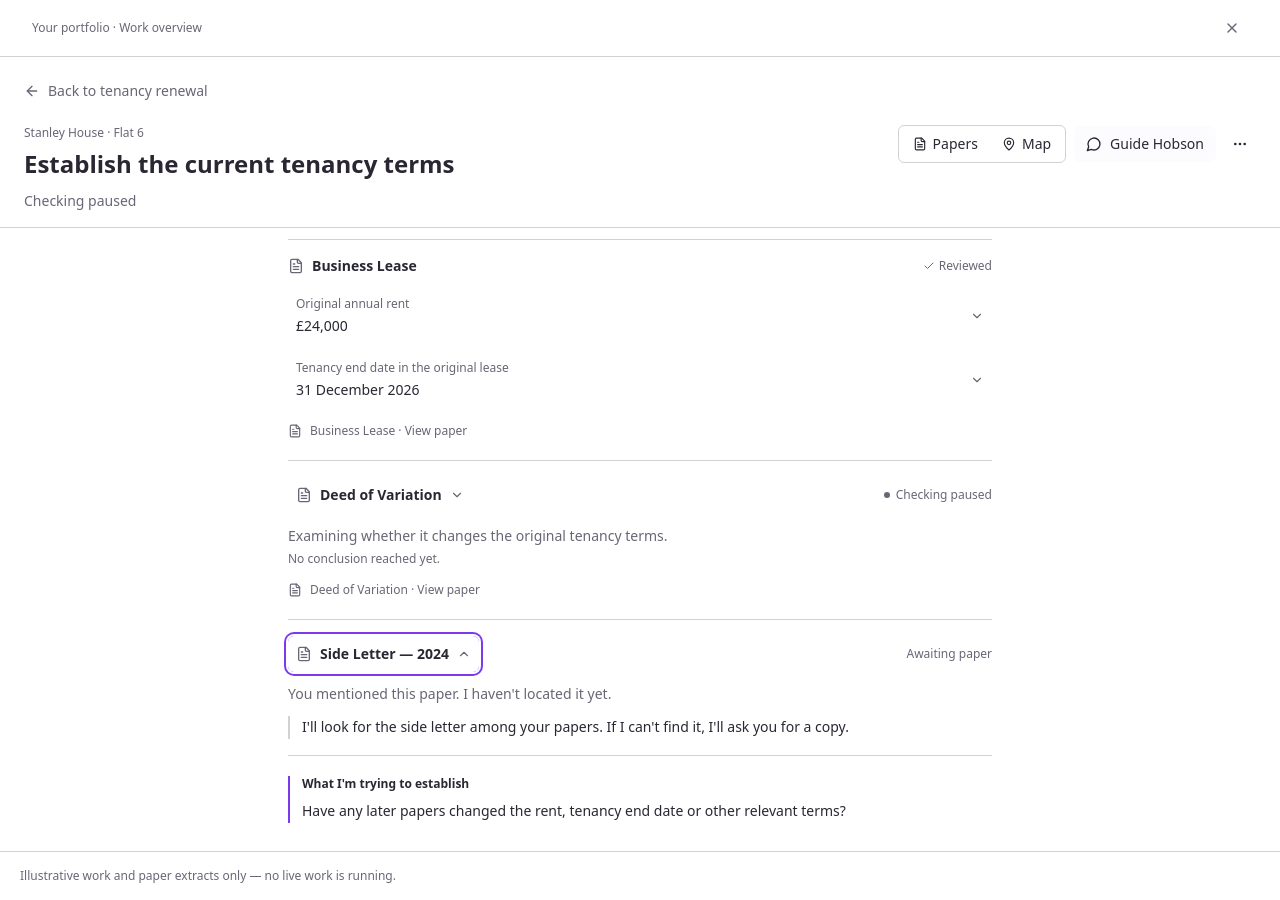
Test: Illustrative work journey › preserves the selected evidence and pause state when guidance adds a paper
The image size is (1280, 900).
Earlier steps of the test are not shown.
Later steps or results of the test are not shown.
(page scrolled)
Click the button "Back to tenancy renewal" at (116,91), box [24, 73, 208, 109]
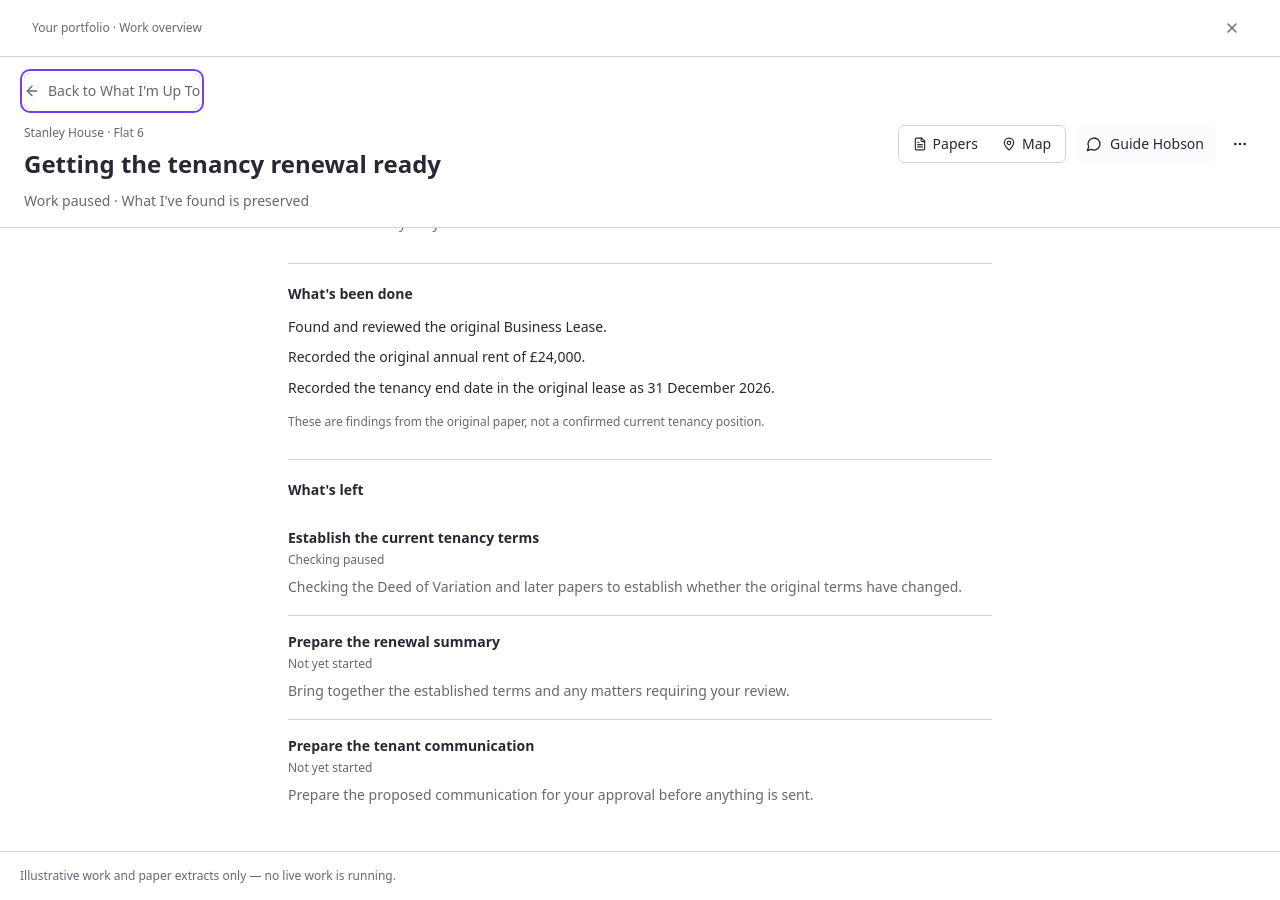
Click the button "Back to What I'm Up To" at (112,91), box [24, 73, 200, 109]
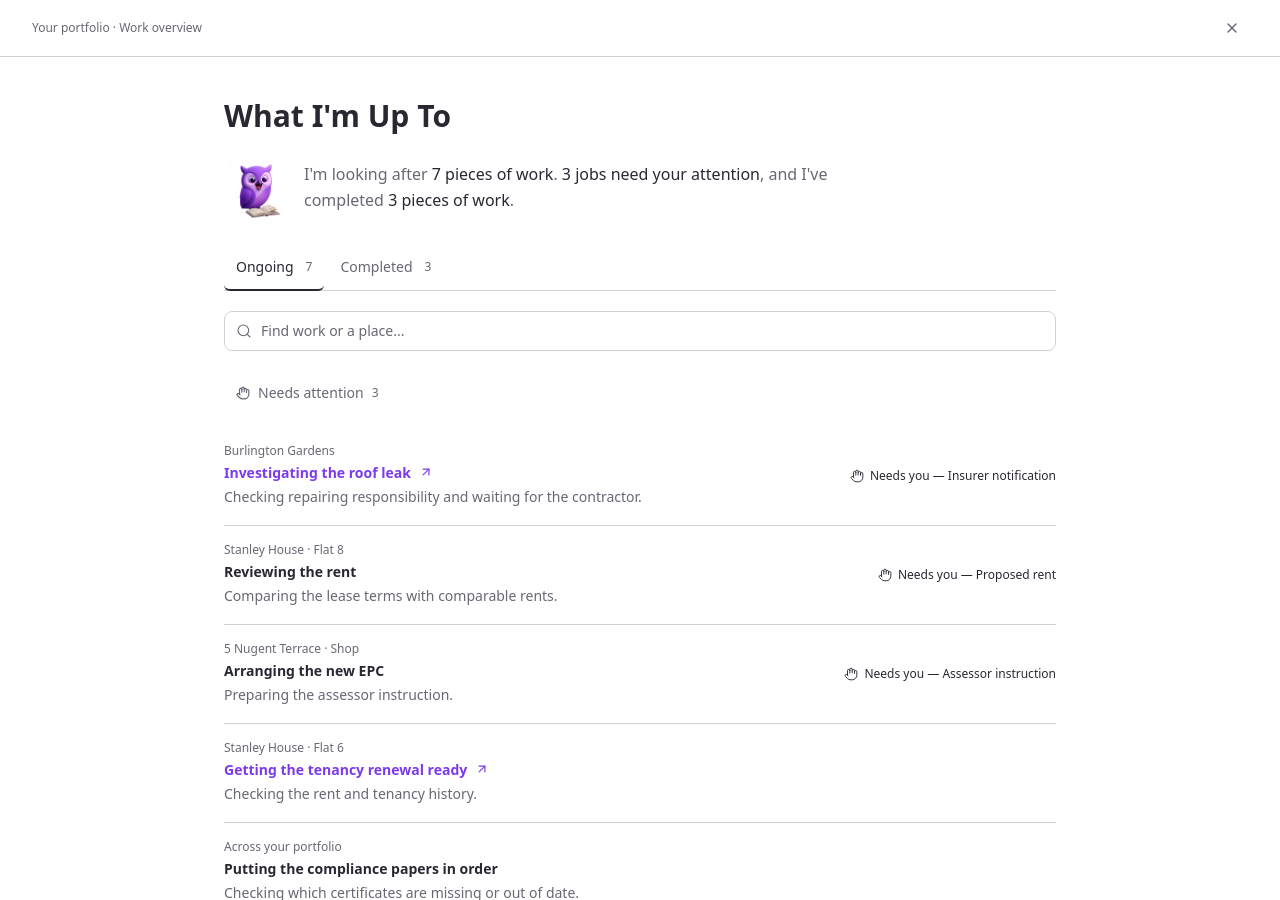
Click the button "Getting the tenancy renewal ready" at (357,769), box [224, 760, 489, 779]
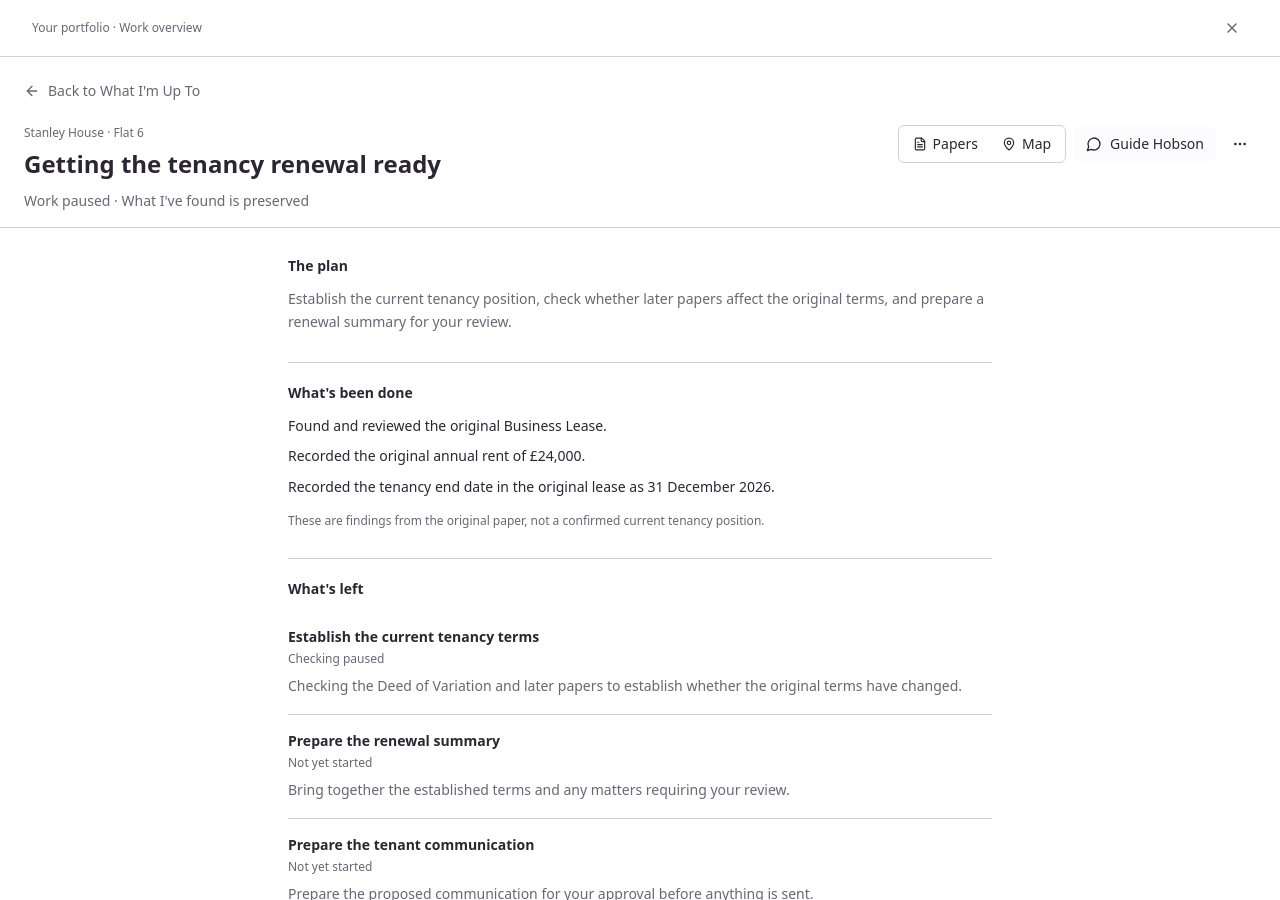
Click the button "Establish the current tenancy terms" at (414,637), box [288, 611, 992, 714]
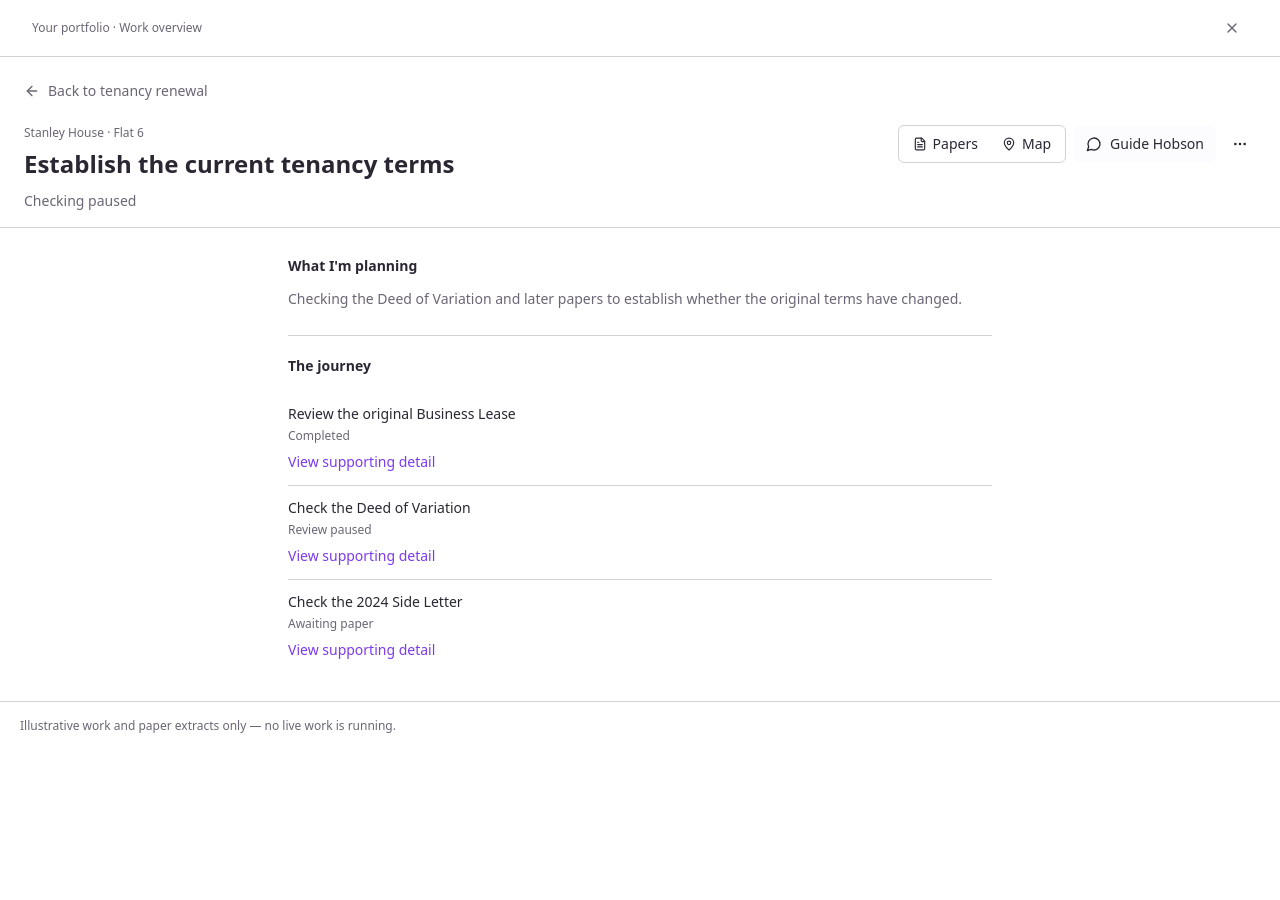
Click the button "View supporting detail" below "Check the Deed of Variation" at (362,556), box [288, 546, 435, 566]
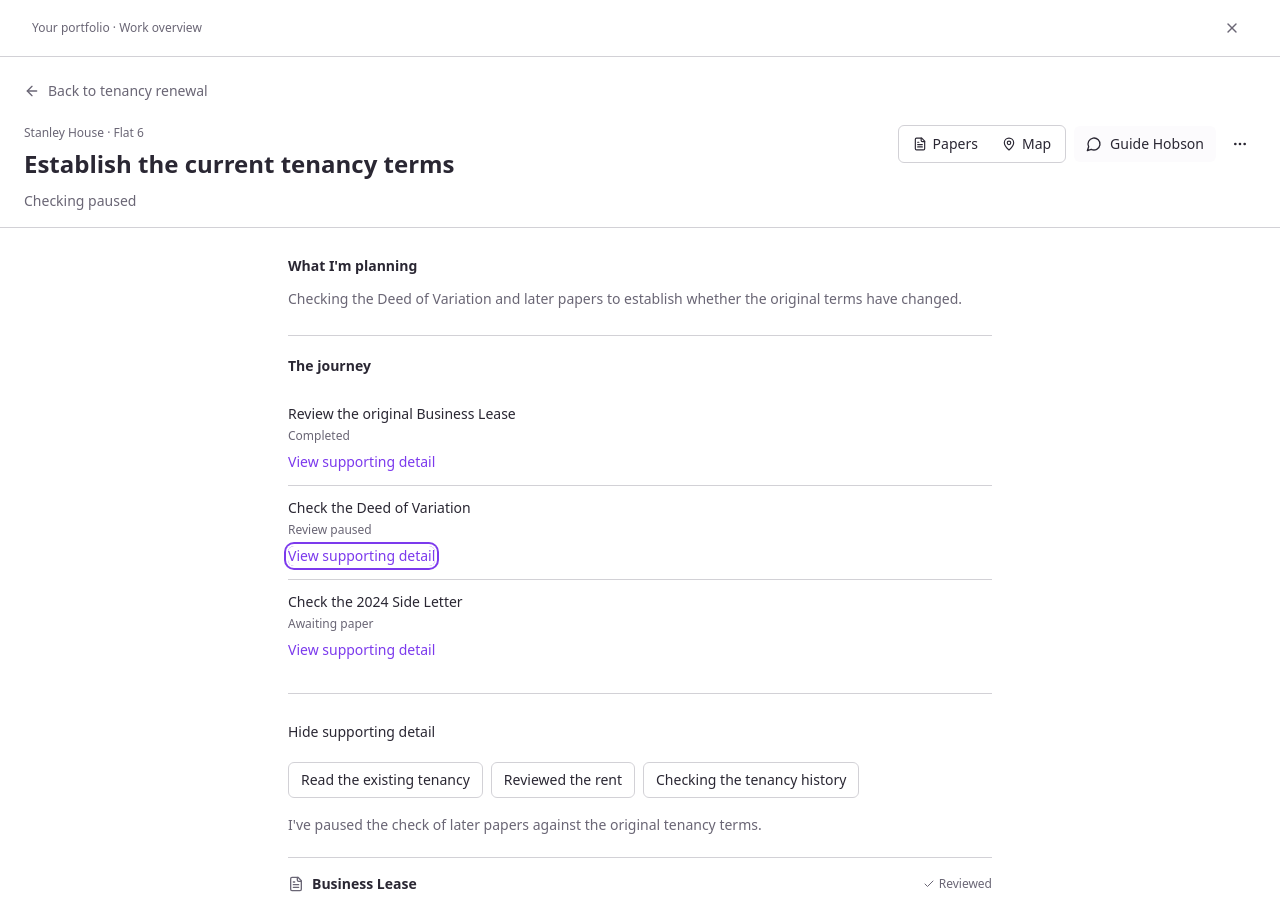
Click the button named "More work options" at (1240,144), box [1224, 128, 1256, 160]
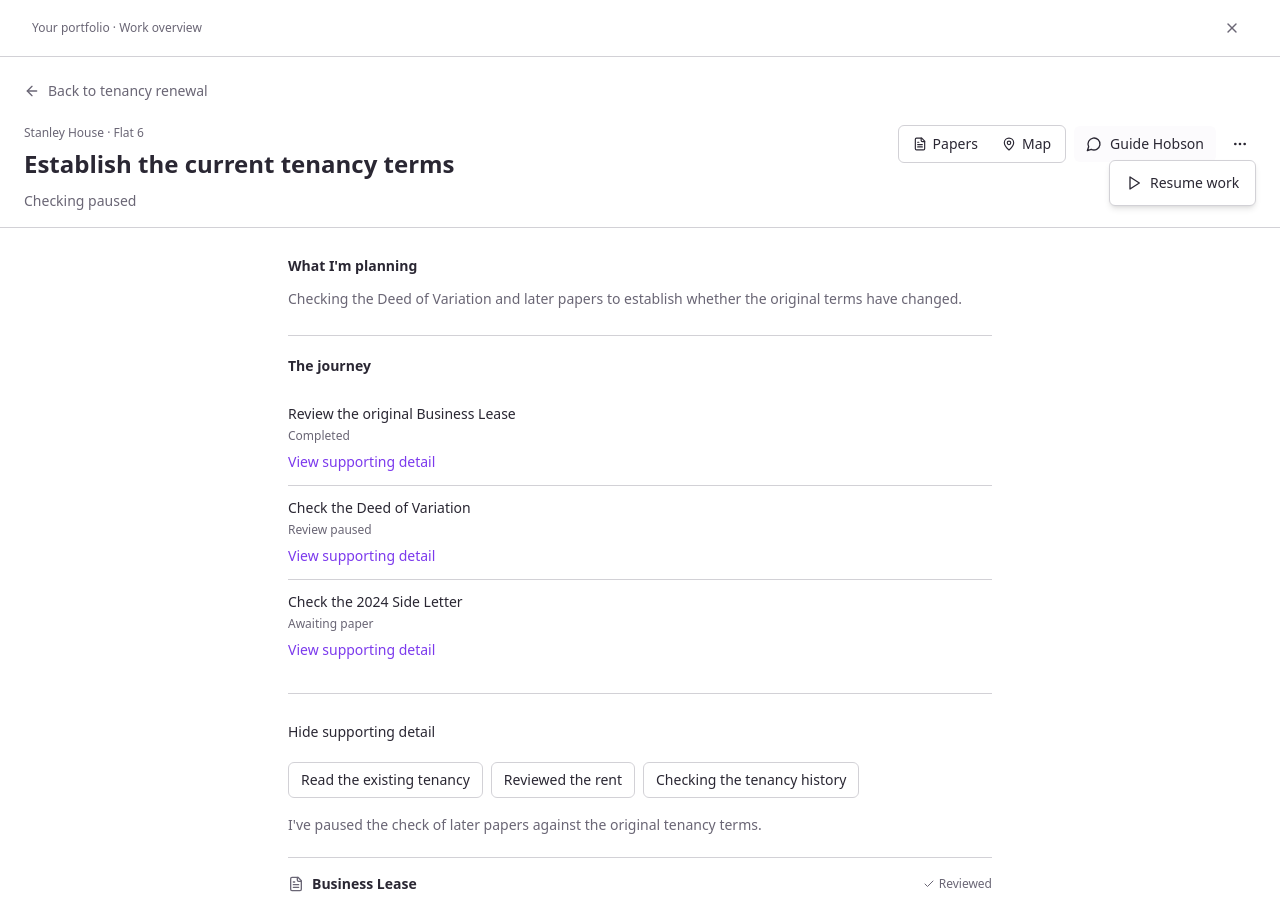
Now the menu item "Resume work" is enabled, box [1114, 165, 1251, 201]
